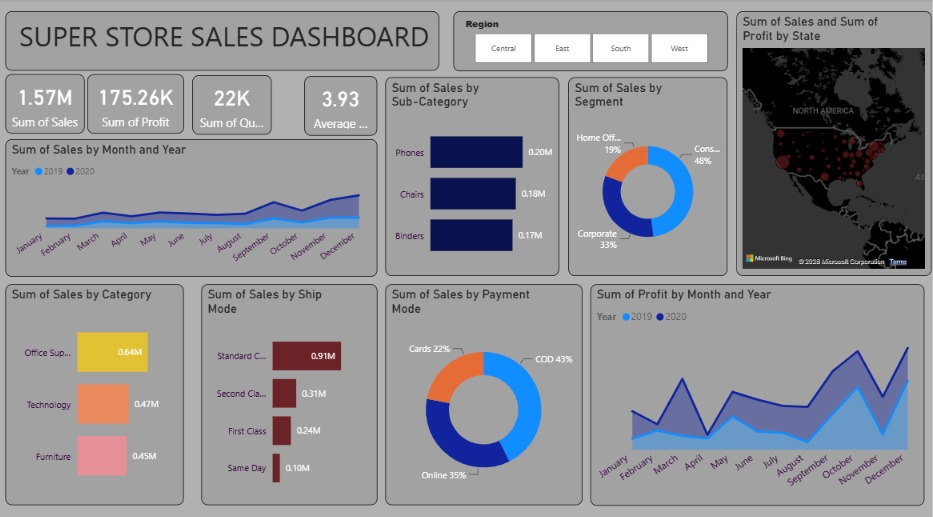

What the dashboard file says about the page in this screenshot:
{"tool":"powerbi","page":{"name":"Page 1","canvas":[1280,720],"ordinal":0},"visuals":[{"type":"clusteredBarChart","fields":{"Category":["SuperStore_Sales_Dataset.Category"],"Y":["Sum(SuperStore_Sales_Dataset.Sales)"]},"box":[8.3,391.7,245,303.3],"z":0},{"type":"clusteredBarChart","fields":{"Category":["SuperStore_Sales_Dataset.Sub-Category"],"Y":["Sum(SuperStore_Sales_Dataset.Sales)"]},"box":[530,107.1,238.6,272.9],"z":1000},{"type":"clusteredBarChart","fields":{"Category":["SuperStore_Sales_Dataset.Ship Mode"],"Y":["Sum(SuperStore_Sales_Dataset.Sales)"]},"box":[276.7,391.7,241.7,303.3],"z":2000},{"type":"stackedAreaChart","fields":{"Y":["Sum(SuperStore_Sales_Dataset.Sales)"],"Series":["SuperStore_Sales_Dataset.Order Date.Variation.Date Hierarchy.Year"],"Category":["SuperStore_Sales_Dataset.Order Date.Variation.Date Hierarchy.Month","SuperStore_Sales_Dataset.Order Date.Variation.Date Hierarchy.Day"]},"box":[8.6,191.4,510,188.6],"z":3000},{"type":"stackedAreaChart","fields":{"Series":["SuperStore_Sales_Dataset.Order Date.Variation.Date Hierarchy.Year"],"Category":["SuperStore_Sales_Dataset.Order Date.Variation.Date Hierarchy.Month","SuperStore_Sales_Dataset.Order Date.Variation.Date Hierarchy.Day"],"Y":["Sum(SuperStore_Sales_Dataset.Profit)"]},"box":[811.4,391.4,458.6,304.3],"z":4000},{"type":"map","fields":{"Category":["SuperStore_Sales_Dataset.State"],"Size":["Sum(SuperStore_Sales_Dataset.Sales)"]},"box":[1012,17,268,363],"z":5000},{"type":"donutChart","fields":{"Category":["SuperStore_Sales_Dataset.Segment"],"Y":["Sum(SuperStore_Sales_Dataset.Sales)"]},"box":[781.4,107.1,218.6,272.9],"z":6000},{"type":"donutChart","fields":{"Category":["SuperStore_Sales_Dataset.Payment Mode"],"Y":["Sum(SuperStore_Sales_Dataset.Sales)"]},"box":[530,391.7,270,303.3],"z":7000},{"type":"textbox","box":[8.3,16.7,595,81.7],"z":8000},{"type":"slicer","fields":{"Values":["SuperStore_Sales_Dataset.Region"]},"box":[623,17,377,82],"z":9000},{"type":"card","fields":{"Values":["Sum(SuperStore_Sales_Dataset.Sales)"]},"box":[8.6,102.9,108.6,81.4],"z":10000},{"type":"card","fields":{"Values":["Sum(SuperStore_Sales_Dataset.Profit)"]},"box":[121.4,102.9,132.9,81.4],"z":11000},{"type":"card","fields":{"Values":["Sum(SuperStore_Sales_Dataset.Quantity)"]},"box":[264.3,104.3,108.6,81.4],"z":12000},{"type":"card","fields":{"Values":["Avg(SuperStore_Sales_Dataset.AvgDelivery)"]},"box":[418.6,105.7,100,81.4],"z":13000}]}

Visuals, with their boxes in screenshot pixels (x1, y1, x2, y2), scaled from the page's 1280x720 canvas onto the 933x517 screenshot:
clusteredBarChart - SuperStore_Sales_Dataset.Category x Sum(SuperStore_Sales_Dataset.Sales): 6:281:185:499
clusteredBarChart - SuperStore_Sales_Dataset.Sub-Category x Sum(SuperStore_Sales_Dataset.Sales): 386:77:560:273
clusteredBarChart - SuperStore_Sales_Dataset.Ship Mode x Sum(SuperStore_Sales_Dataset.Sales): 202:281:378:499
stackedAreaChart - Sum(SuperStore_Sales_Dataset.Sales) x SuperStore_Sales_Dataset.Order Date.Variation.Date Hierarchy.Year: 6:137:378:273
stackedAreaChart - SuperStore_Sales_Dataset.Order Date.Variation.Date Hierarchy.Year x SuperStore_Sales_Dataset.Order Date.Variation.Date Hierarchy.Month: 591:281:926:500
map - SuperStore_Sales_Dataset.State x Sum(SuperStore_Sales_Dataset.Sales): 738:12:932:273
donutChart - SuperStore_Sales_Dataset.Segment x Sum(SuperStore_Sales_Dataset.Sales): 570:77:729:273
donutChart - SuperStore_Sales_Dataset.Payment Mode x Sum(SuperStore_Sales_Dataset.Sales): 386:281:583:499
textbox: 6:12:440:71
slicer - SuperStore_Sales_Dataset.Region: 454:12:729:71
card - Sum(SuperStore_Sales_Dataset.Sales): 6:74:85:132
card - Sum(SuperStore_Sales_Dataset.Profit): 88:74:185:132
card - Sum(SuperStore_Sales_Dataset.Quantity): 193:75:272:133
card - Avg(SuperStore_Sales_Dataset.AvgDelivery): 305:76:378:134
